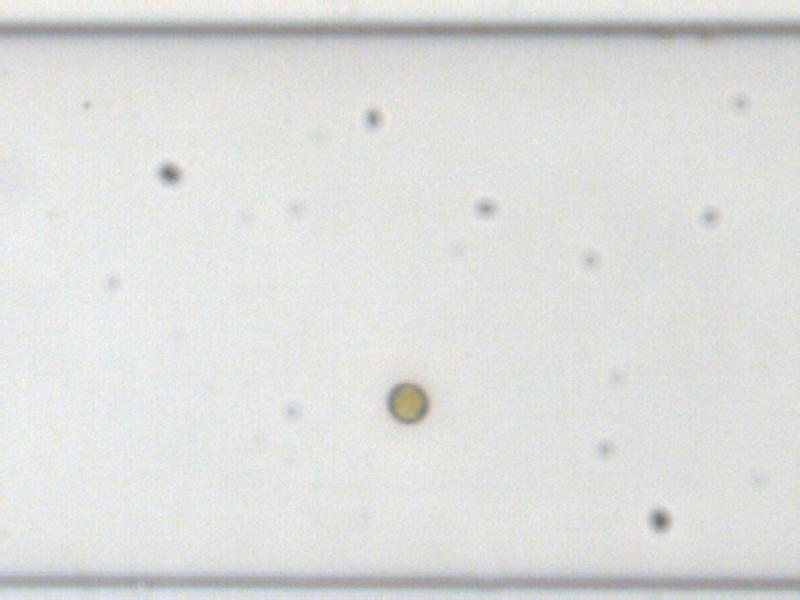Effrenium: (383, 380, 429, 425)
